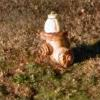Hydrant: (34, 3, 76, 74)
